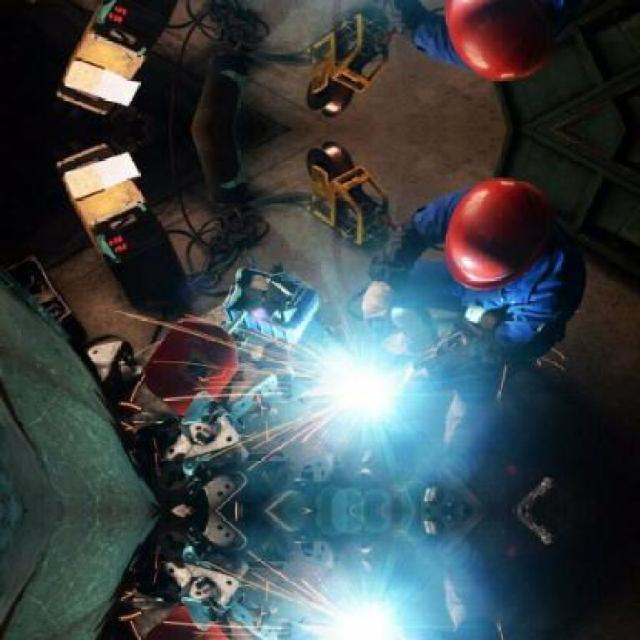helmet: (435, 166, 574, 312), (436, 0, 576, 91)
